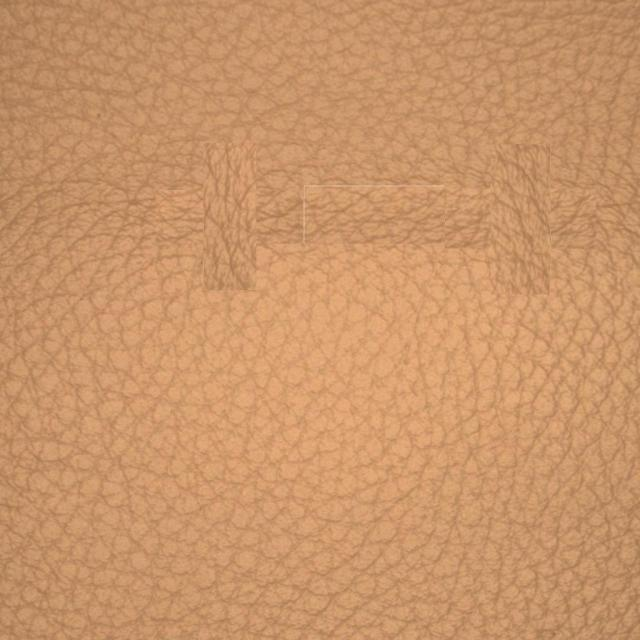Healed Injury: (414, 118, 608, 292), (167, 121, 331, 275)
